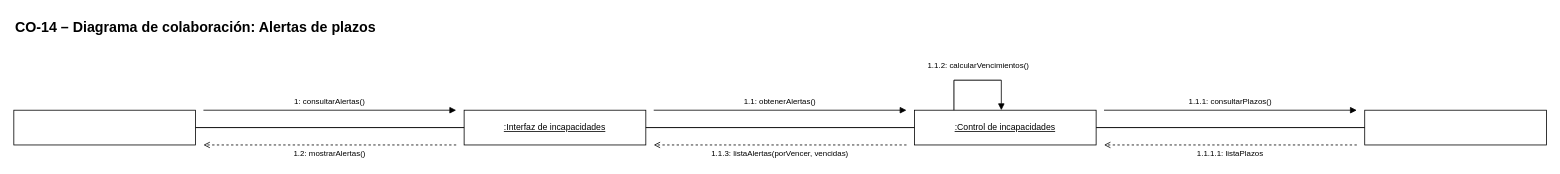
This 1560x174 diagram has some shape labels left out. Here are the shapes that lost their labels. From the top down, the centre of each, then its label:
(104,127): :Auxiliar de Administración de Personal
(1455,127): :Base de datos
